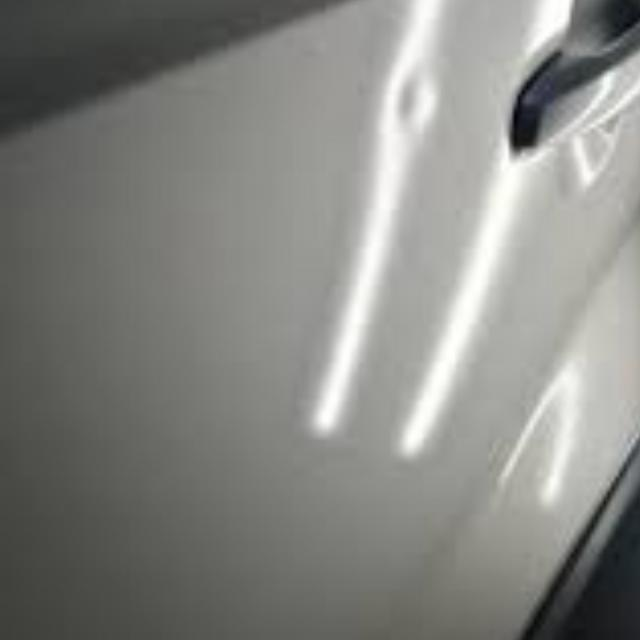dents: (364, 60, 447, 159)
